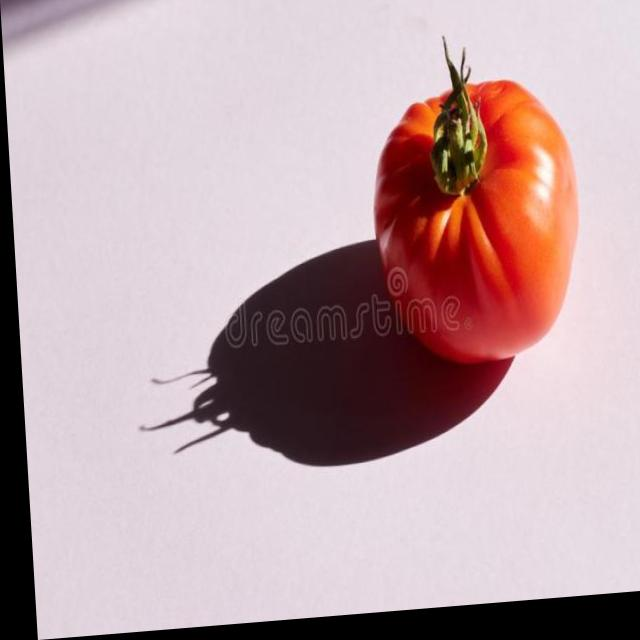kirmizi: (360, 57, 597, 395)
